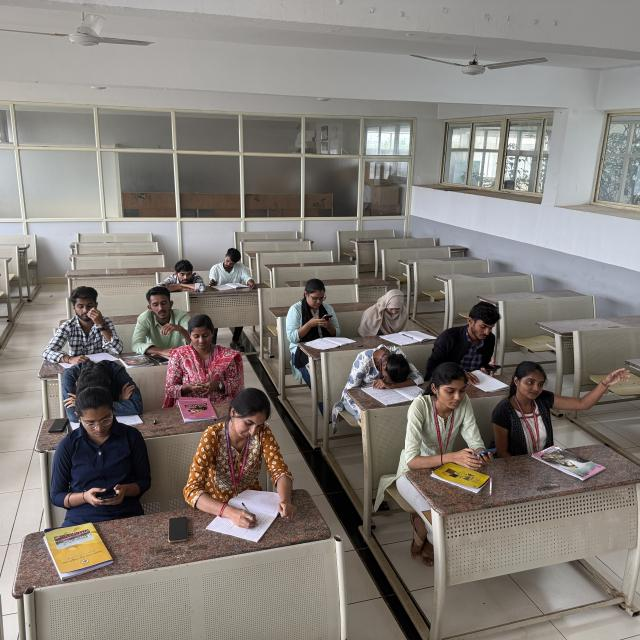Reading: (358, 287, 418, 338)
Sleeping: (51, 355, 144, 411), (345, 341, 421, 392), (152, 257, 209, 296)
Using Phone: (51, 389, 151, 519), (408, 362, 502, 466), (162, 314, 247, 390), (284, 279, 346, 350)
Writing: (185, 395, 292, 540), (435, 298, 517, 385), (207, 248, 257, 297)
